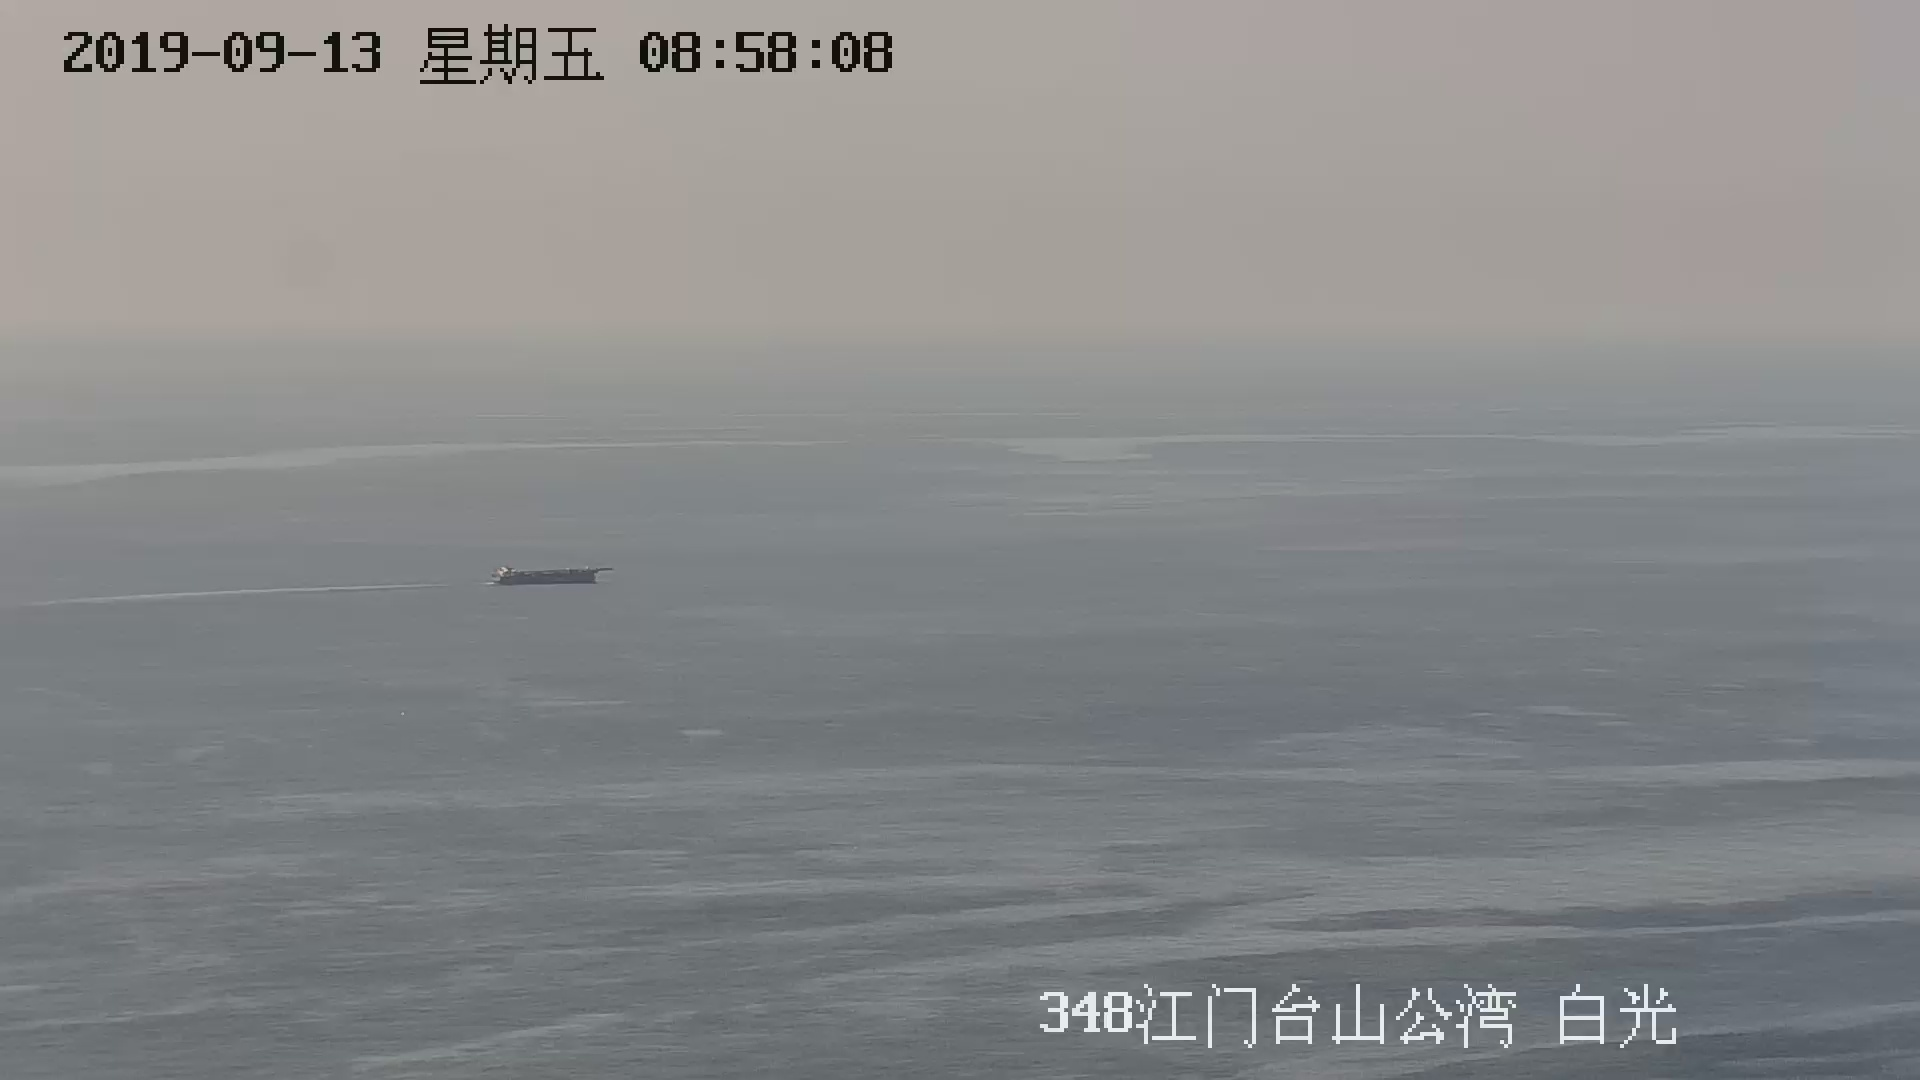ship: (491, 560, 611, 589)
